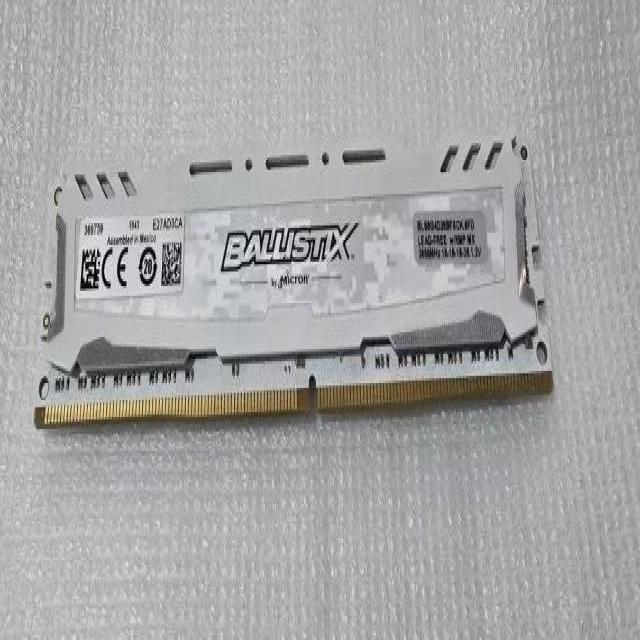RAM: (32, 122, 556, 438)
